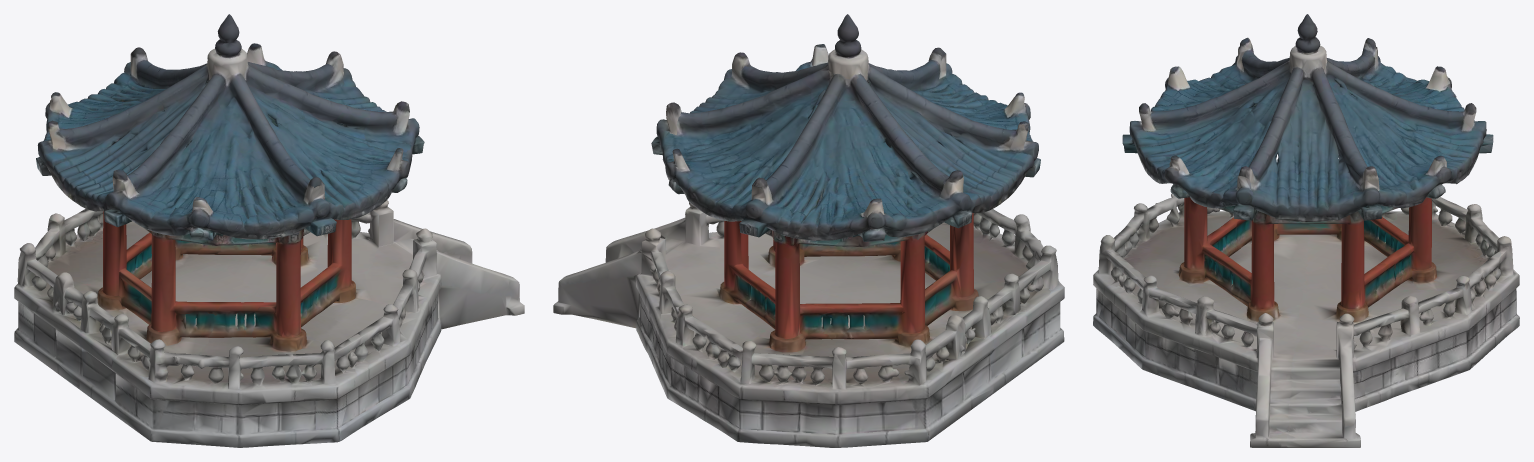
File: pavilion.glb
The picture shows the model from 3 angles, left to right: view 1: azimuth 30°, elevation 25°; view 2: azimuth 150°, elevation 25°; view 3: azimuth 270°, elevation 25°; orthographic projection. The views are drawn at different scales.
Visible parts, largest first — view 1: tripo_node_2e7e51cf-1e09-41bb-8974-4cbd1175bc94; view 2: tripo_node_2e7e51cf-1e09-41bb-8974-4cbd1175bc94; view 3: tripo_node_2e7e51cf-1e09-41bb-8974-4cbd1175bc94.
Part boxes in pixels (box(x1,y1,x2,y2)): tripo_node_2e7e51cf-1e09-41bb-8974-4cbd1175bc94: box(14, 14, 524, 447); tripo_node_2e7e51cf-1e09-41bb-8974-4cbd1175bc94: box(553, 14, 1064, 447); tripo_node_2e7e51cf-1e09-41bb-8974-4cbd1175bc94: box(1093, 14, 1519, 447).
Bounding box in the file's own units: 0.9998 × 0.8533 × 0.9511.
Materials: 1 (1 with a texture image).
